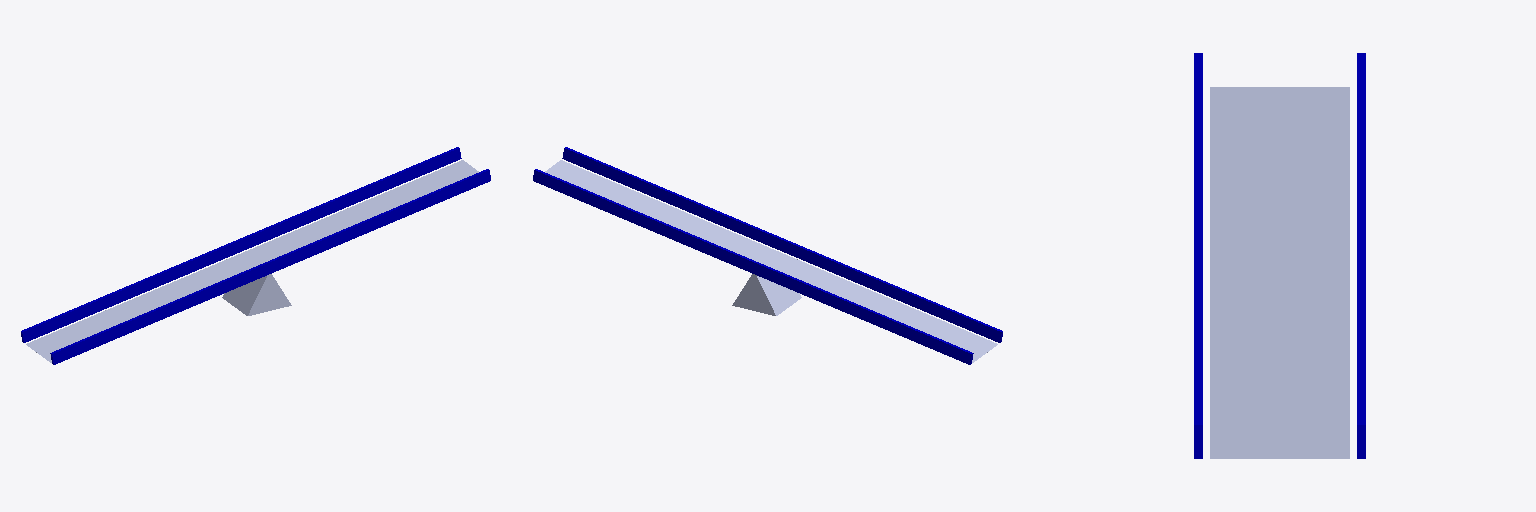
URDF robot description (final_plank):
<?xml version="1.0" encoding="utf-8"?>
<!-- This URDF was automatically created by SolidWorks to URDF Exporter! Originally created by [author] ([email redacted]) 
     Commit Version: 1.6.0-1-g15f4949  Build Version: 1.6.7594.29634
     For more information, please see http://wiki.ros.org/sw_urdf_exporter -->
<robot
  name="final_plank">
    <material name="blue">
    <color rgba="0 0 0.8 1"/>
  </material>
  <link
    name="prism">
    <inertial>
      <origin
        xyz="0.273547454868685 0.215840736668064 0.441635509533608"
        rpy="0 0 0" />
      <mass
        value="100" />
      <inertia
        ixx="4.20888346239235"
        ixy="-5.62812561082257E-15"
        ixz="1.58743381048034E-18"
        iyy="4.20888346239236"
        iyz="-2.6679716546464E-16"
        izz="2.80592230826157" />
    </inertial>
    <visual>
      <origin
        xyz="0 0 0"
        rpy="0 0 0" />
      <geometry>
        <mesh
          filename="package://final_plank/meshes/prism.STL" />
      </geometry>
      <material
        name="">
        <color
          rgba="0.792156862745098 0.819607843137255 0.933333333333333 1" />
      </material>
    </visual>
    <collision>
      <origin
        xyz="0 0 0"
        rpy="0 0 0" />
      <geometry>
        <mesh
          filename="package://final_plank/meshes/prism.STL" />
      </geometry>
    </collision>
  </link>
<gazebo reference="prism">
	<static>true</static>
</gazebo>
  <link
    name="plank">
    <inertial>
      <origin
        xyz="1.38777878078145E-15 0.0299999999999999 0.300000000000009"
        rpy="0 0 0" />
      <mass
        value="216" />
      <inertia
        ixx="6.54479999999999"
        ixy="-6.86339873823272E-13"
        ixz="1.89428638578259E-12"
        iyy="654.479999999999"
        iyz="5.01917770841E-16"
        izz="648.064799999999" />
    </inertial>
    <visual>
      <origin
        xyz="0 0 0"
        rpy="0 0 0" />
      <geometry>
        <mesh
          filename="package://final_plank/meshes/plank.STL" scale="1 0.01 1"/>
      </geometry>
      <material
        name="">
        <color
          rgba="0.792156862745098 0.819607843137255 0.933333333333333 1" />
      </material>
    </visual>
    <collision>
      <origin
        xyz="0 0 0"
        rpy="0 0 0" />
      <geometry>
        <mesh
          filename="package://final_plank/meshes/plank.STL" scale="1 0.01 1"/>
      </geometry>
          <surface>
        <friction>
          <ode>
            <mu>0.1</mu>
            <mu2>0.1</mu2>
          </ode>
        </friction>
      </surface>
    </collision>
  </link>
  <joint
    name="rotate"
    type="continuous">
    <origin
      xyz="0.27355 -0.14164 0.56225"
       rpy="1.5708 -0.168 0"/>
    <parent
      link="prism" />
    <child
      link="plank" />
    <axis
      xyz="0 0 1" />
    <limit
      effort="100"
      velocity="100" />
  </joint>
    <link name="world"/>

  <joint name="grouding" type="fixed">
    <parent link="world"/>
    <child link="prism"/>
  </joint>
   <link name="new_p1">
      <origin
        xyz="1.38777878078145E-15 .029999 0.300000000000009"
        rpy="0 0 1.5708" />
      <mass
        value="216" />
      <inertia
        ixx="6.54479999999999"
        ixy="-6.86339873823272E-13"
        ixz="1.89428638578259E-12"
        iyy="654.479999999999"
        iyz="5.01917770841E-16"
        izz="648.064799999999" />
    <collision>
        <geometry>
            <box size=".15 6 .04"/>
        </geometry>

    </collision>
    <visual>
        <geometry>
            <box size=".15 6 .04"/>
        </geometry>
        <material name="blue"/>
    </visual>

    </link>
      <joint name="grouding2" type="fixed">
        <origin
      xyz="1.38777878078145E-15 0.075 .650000000000009"
        rpy="0 0 1.5708" />
    <parent link="plank"/>
    <child link="new_p1"/>
  </joint>
    <gazebo reference="new_p1">
    <material>Gazebo/Green</material>
  </gazebo>
   <link name="new_p2">
      <origin
        xyz="1.38777878078145E-15 .029999 0.300000000000009"
        rpy="0 0 1.5708" />
      <mass
        value="216" />
      <inertia
        ixx="6.54479999999999"
        ixy="-6.86339873823272E-13"
        ixz="1.89428638578259E-12"
        iyy="654.479999999999"
        iyz="5.01917770841E-16"
        izz="648.064799999999" />
    <collision>
        <geometry>
            <box size=".15 6 .04"/>
        </geometry>

    </collision>
    <visual>
        <geometry>
            <box size=".15 6 .04"/>
        </geometry>
        <material name="blue"/>
    </visual>
</link>
      <joint name="grouding3" type="fixed">
        <origin
      xyz="1.38777878078145E-15 0.075 -.050000000000009"
        rpy="0 0 1.5708" />
    <parent link="plank"/>
    <child link="new_p2"/>
  </joint>
    <gazebo reference="new_p2">
    <material>Gazebo/Green</material>
  </gazebo>


</robot>

--- Facts derived from the render (not from the file) ---
3 views of the same robot in one strip: view 1: azimuth 30°, elevation 25°; view 2: azimuth 150°, elevation 25°; view 3: azimuth 270°, elevation 25° (orthographic).
Model final_plank with 5 links and 4 joints (1 continuous, 3 fixed), rooted at world, posed all joints at 0.
Visible links, largest first — view 1: plank, new_p1, new_p2, prism; view 2: plank, new_p2, new_p1, prism; view 3: plank, new_p1, new_p2.
Link boxes in pixels (left/top/right/bottom): plank: left=26, top=160, right=478, bottom=362; new_p1: left=50, top=169, right=490, bottom=364; new_p2: left=21, top=147, right=461, bottom=342; prism: left=222, top=274, right=291, bottom=315; plank: left=545, top=160, right=997, bottom=362; new_p2: left=533, top=169, right=973, bottom=364; new_p1: left=562, top=147, right=1002, bottom=342; prism: left=732, top=274, right=801, bottom=315; plank: left=1210, top=87, right=1349, bottom=458; new_p1: left=1194, top=53, right=1202, bottom=458; new_p2: left=1357, top=53, right=1365, bottom=458.
Bounding box of the posed robot: 5.94 × 0.74 × 1.17 m (x, y, z).
Meshes: 2 distinct files referenced, 2 mesh visuals loaded (2 binary STL).